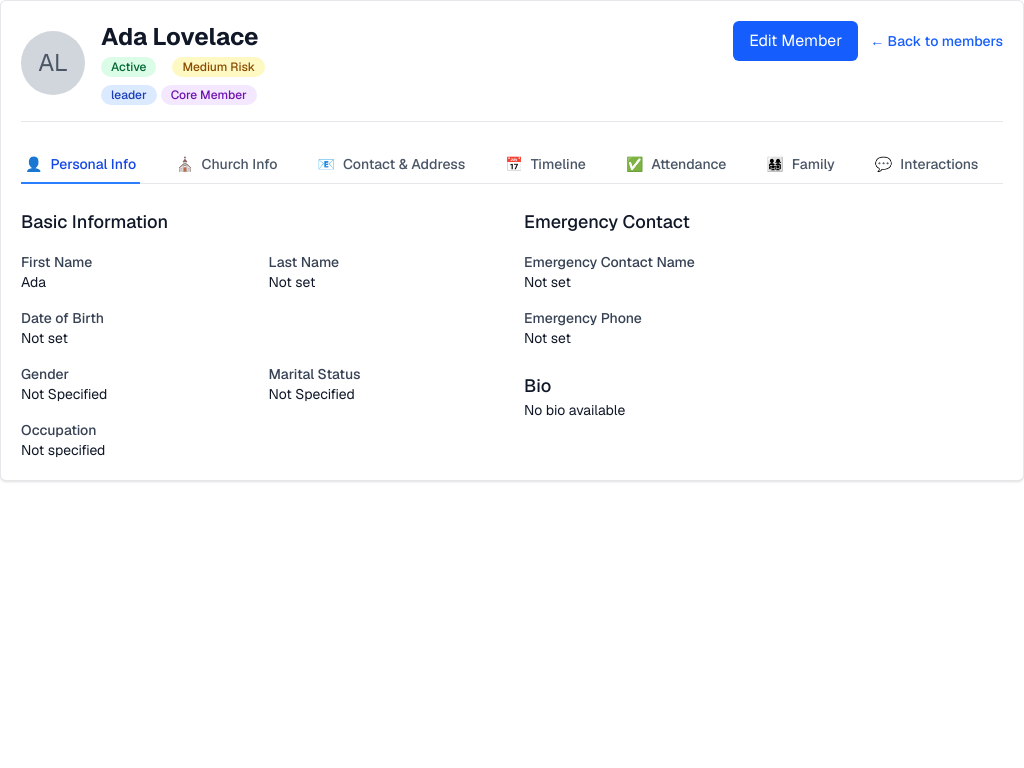
Test: MemberProfile › opens the member form in place from Edit Member
Click the button "Edit Member": (796, 41) x1=733 y1=21 x2=858 y2=61
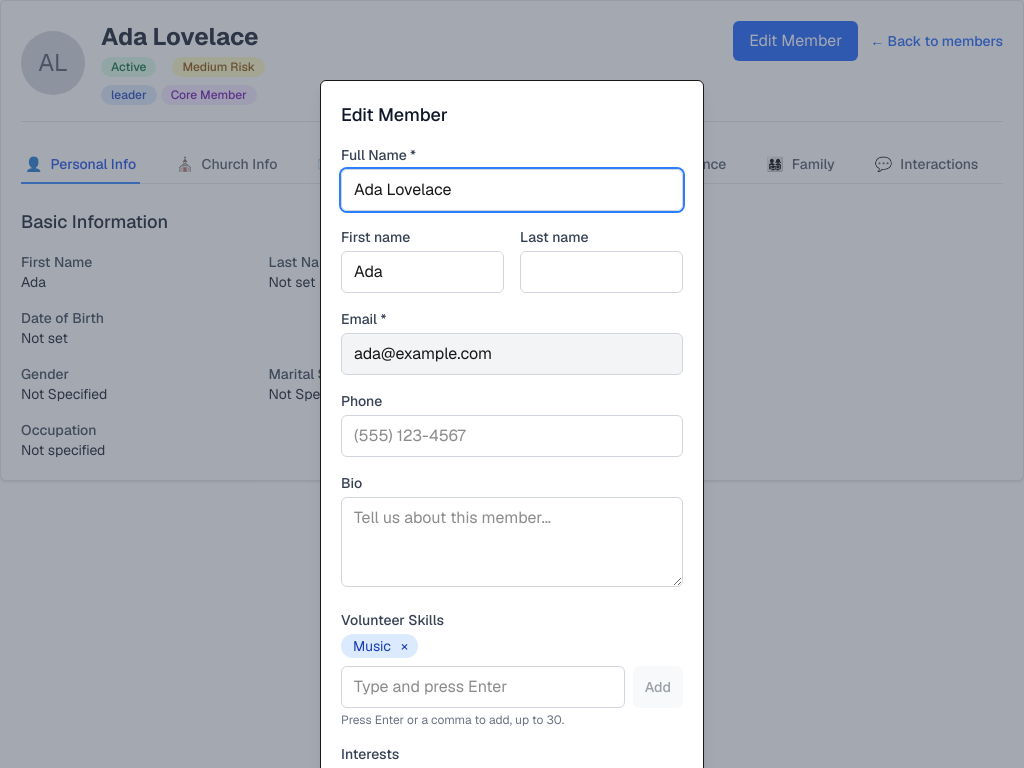
Check: the field showing "ada@example.com" is shown, box x1=341 y1=333 x2=683 y2=375
